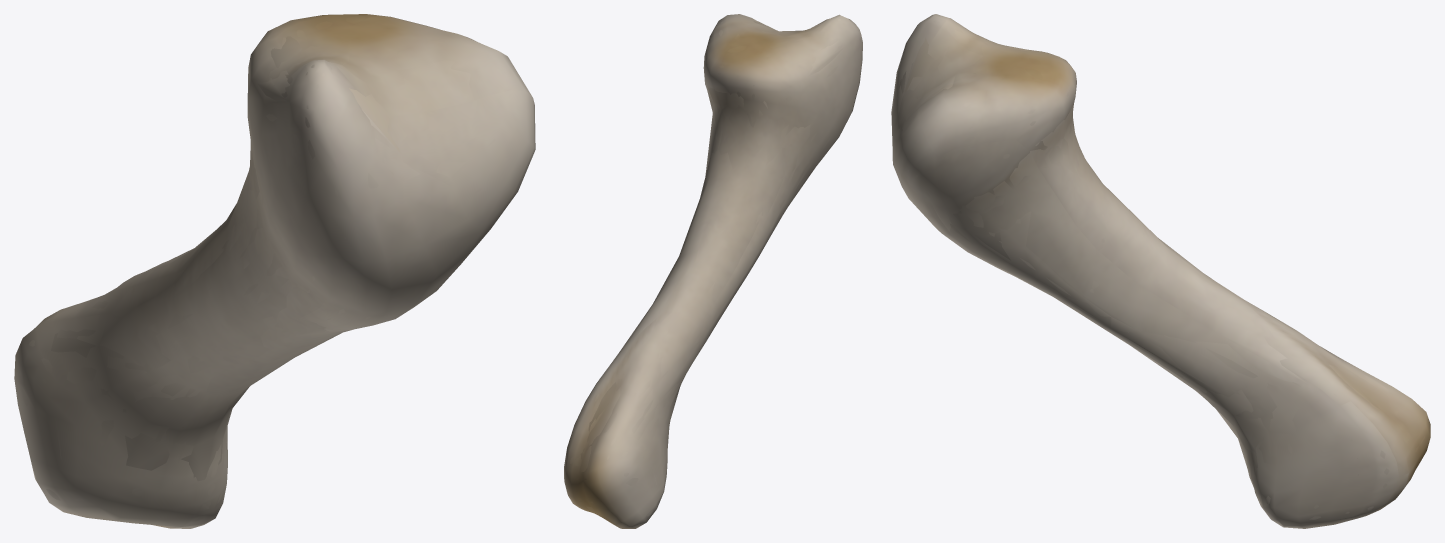
The model's file is L Humerus.fbx.
3 views of the same model, side by side, from view 1: azimuth 30°, elevation 25°; view 2: azimuth 150°, elevation 25°; view 3: azimuth 270°, elevation 25° (orthographic). The views are drawn at different scales.
Parts seen in each view (by area): view 1: L Humerus, L Humerus low, L Humerus high; view 2: L Humerus, L Humerus low, L Humerus high; view 3: L Humerus, L Humerus low, L Humerus high.
Boxes of the visible parts, x1=… form: L Humerus: x1=14, y1=14, x2=535, y2=528; L Humerus low: x1=51, y1=36, x2=484, y2=511; L Humerus high: x1=18, y1=16, x2=534, y2=527; L Humerus: x1=564, y1=14, x2=862, y2=528; L Humerus low: x1=580, y1=20, x2=843, y2=516; L Humerus high: x1=566, y1=17, x2=861, y2=516; L Humerus: x1=891, y1=14, x2=1430, y2=528; L Humerus low: x1=894, y1=25, x2=1420, y2=468; L Humerus high: x1=894, y1=17, x2=1425, y2=527.
Size of the model in its own units: 4.01 by 11 by 11.42.
